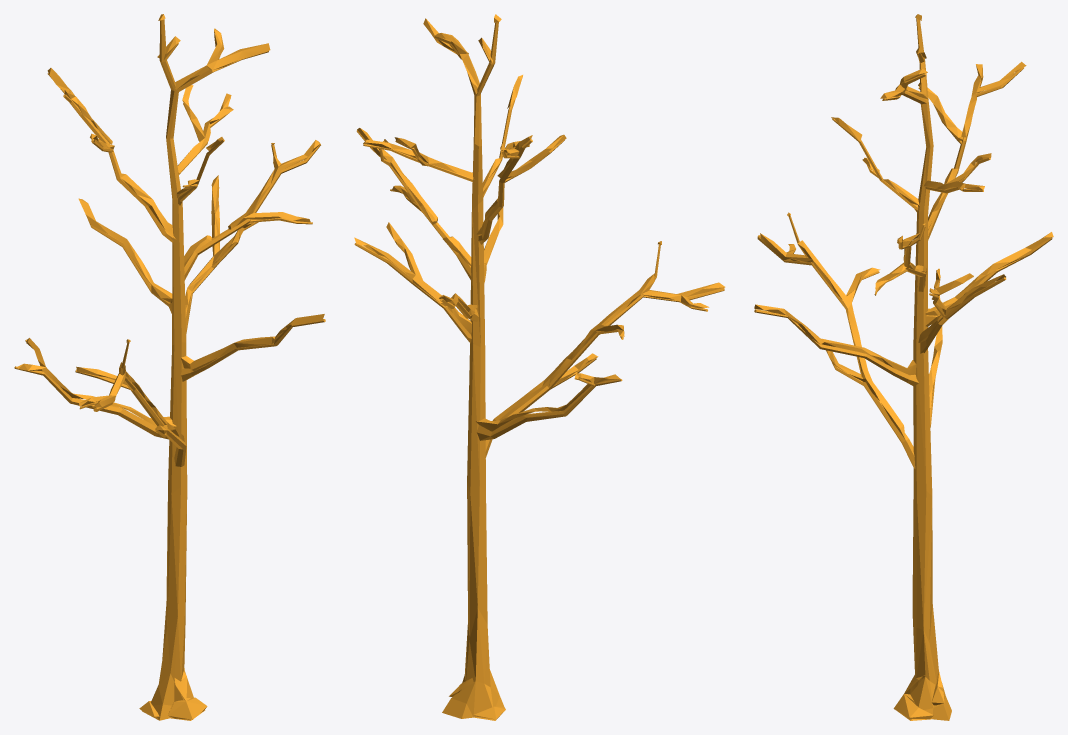
Rendered from SM_Tree_Beech_Mature_A_Bare_Snow.fbx.
The picture shows the model from 3 angles, left to right: view 1: azimuth 30°, elevation 25°; view 2: azimuth 150°, elevation 25°; view 3: azimuth 270°, elevation 25°; orthographic projection. The views are drawn at different scales.
Parts seen in each view (by area): view 1: tree-beech-mature-a-bare-snow; view 2: tree-beech-mature-a-bare-snow; view 3: tree-beech-mature-a-bare-snow.
Boxes of the visible parts, x1,y1,x2,y2 form: tree-beech-mature-a-bare-snow: (14,14,325,720); tree-beech-mature-a-bare-snow: (354,14,725,720); tree-beech-mature-a-bare-snow: (754,14,1053,720).
Size of the model in its own units: 5.14 by 11.5 by 4.53.
